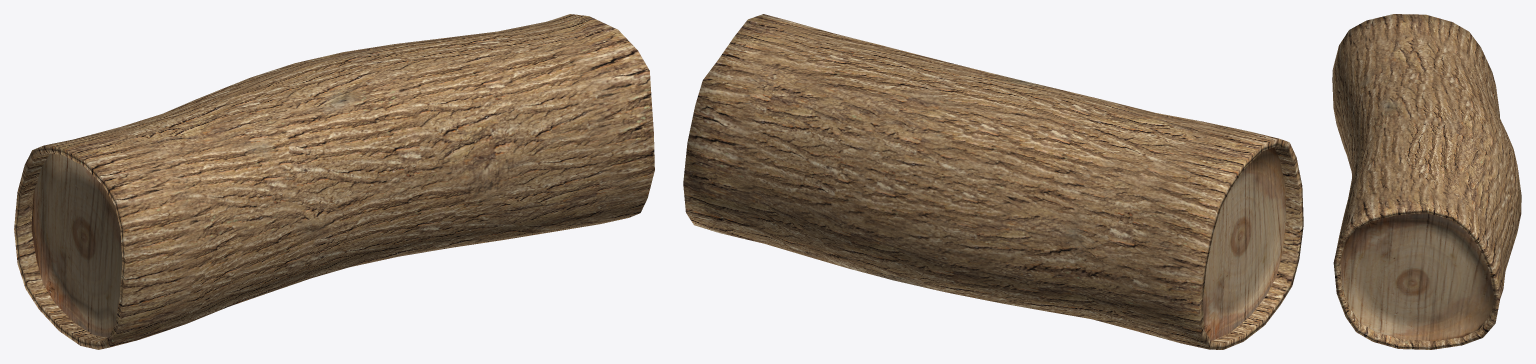
File: Bark_Log.fbx
The picture shows the model from 3 angles, left to right: view 1: azimuth 30°, elevation 25°; view 2: azimuth 150°, elevation 25°; view 3: azimuth 270°, elevation 25°; orthographic projection. The views are drawn at different scales.
Visible parts, largest first — view 1: Bark_Log_Baked; view 2: Bark_Log_Baked; view 3: Bark_Log_Baked.
Boxes of the visible parts, bbox=[...] form: Bark_Log_Baked: bbox=[14, 14, 654, 349]; Bark_Log_Baked: bbox=[683, 14, 1303, 349]; Bark_Log_Baked: bbox=[1332, 14, 1521, 349].
Size of the model in its own units: 1.09 by 0.4384 by 0.3781.
Materials: 1 (1 with a texture image).
